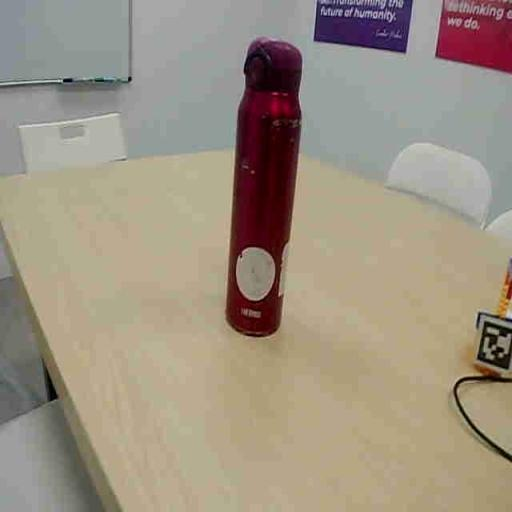bottle: (227, 39, 301, 335)
